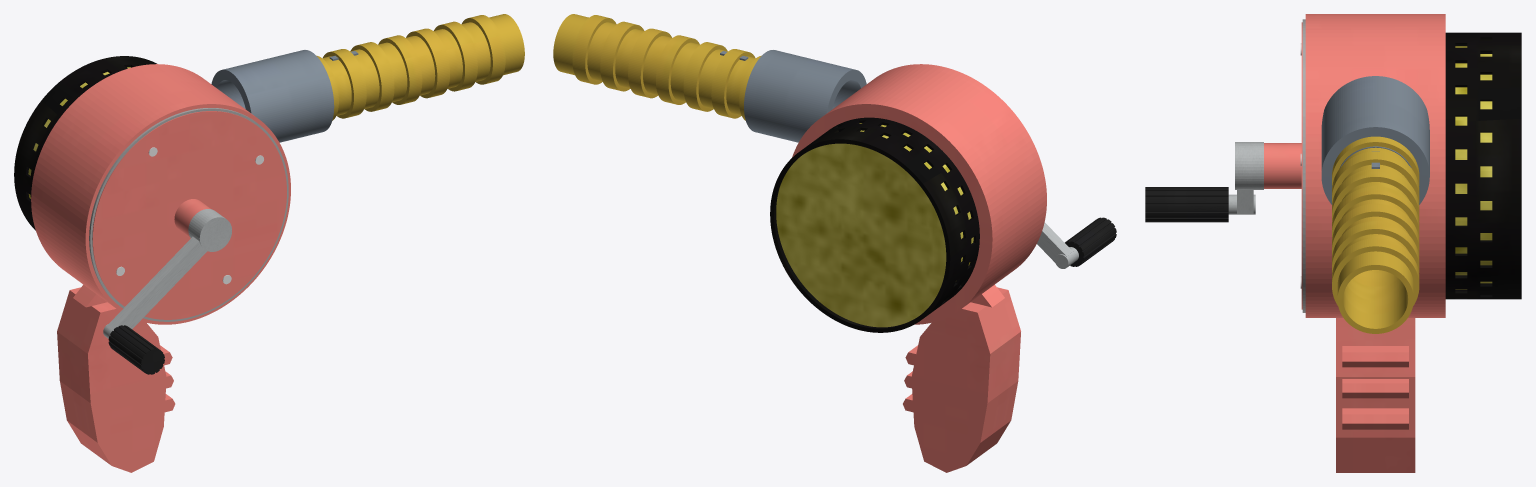
File: pictureX_0611_Air_blower__0340.glb
The picture shows the model from 3 angles, left to right: view 1: azimuth 30°, elevation 25°; view 2: azimuth 150°, elevation 25°; view 3: azimuth 270°, elevation 25°; orthographic projection. The views are drawn at different scales.
Parts seen in each view (by area): view 1: housing::main_body, nozzle::metal_tube, housing::outlet_socket, housing::intake_grille, crank::crank_arm, housing::front_seam, crank::rotating_grip, crank::crank_hub; view 2: housing::main_body, housing::intake_foam, nozzle::metal_tube, housing::intake_grille, housing::outlet_socket, crank::rotating_grip, crank::crank_arm; view 3: housing::main_body, housing::intake_grille, nozzle::metal_tube, housing::outlet_socket, crank::rotating_grip, housing::intake_foam, crank::crank_hub, housing::front_seam, crank::crank_arm.
Boxes of the visible parts, x1,y1,x2,y2 form: housing::main_body: (31,64,290,472); nozzle::metal_tube: (316,14,524,120); housing::outlet_socket: (211,50,334,142); housing::intake_grille: (14,56,156,230); crank::crank_arm: (107,236,207,330); housing::front_seam: (89,108,288,321); crank::rotating_grip: (108,325,164,374); crank::crank_hub: (188,209,231,251); housing::main_body: (792,64,1046,472); housing::intake_foam: (776,123,973,327); nozzle::metal_tube: (553,14,761,120); housing::intake_grille: (770,117,979,332); housing::outlet_socket: (744,50,866,142); crank::rotating_grip: (1065,217,1116,266); crank::crank_arm: (1037,222,1072,262); housing::main_body: (1264,14,1445,472); housing::intake_grille: (1445,32,1521,299); nozzle::metal_tube: (1332,136,1419,333); housing::outlet_socket: (1321,76,1429,204); crank::rotating_grip: (1145,187,1228,222); housing::intake_foam: (1455,46,1492,289); crank::crank_hub: (1235,142,1263,189); housing::front_seam: (1302,19,1305,312); crank::crank_arm: (1237,190,1253,214).
Size of the model in its own units: 0.326 by 0.247 by 0.1806.
Materials: 10 (9 with a texture image).
